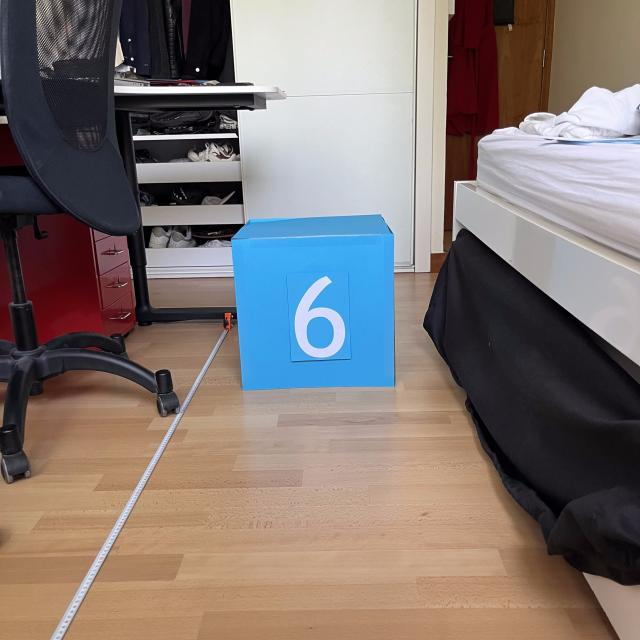box: (227, 210, 399, 392)
